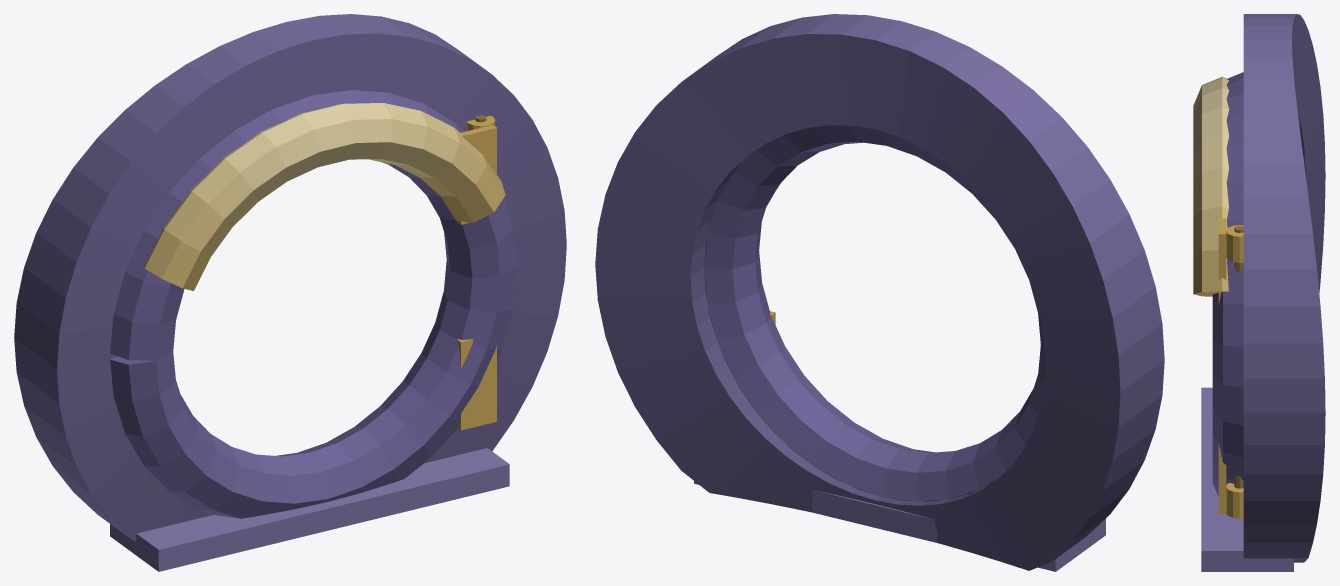
File: goo_jar_door@starlight.fbx
The picture shows the model from 3 angles, left to right: view 1: azimuth 30°, elevation 25°; view 2: azimuth 150°, elevation 25°; view 3: azimuth 270°, elevation 25°; orthographic projection. The views are drawn at different scales.
Parts seen in each view (by area): view 1: goo_jar_door; view 2: goo_jar_door; view 3: goo_jar_door.
Boxes of the visible parts, bbox=[...] form: goo_jar_door: bbox=[14, 14, 566, 571]; goo_jar_door: bbox=[595, 14, 1164, 571]; goo_jar_door: bbox=[1193, 14, 1325, 571].
Size of the model in its own units: 14.52 by 13.06 by 3.42.
